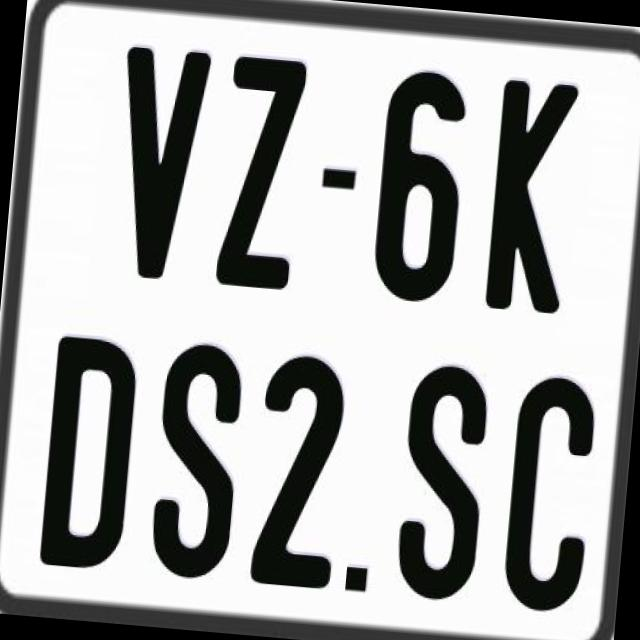2: (247, 348, 356, 594)
6: (371, 63, 474, 303)
C: (498, 374, 597, 616)
D: (35, 336, 143, 572)
K: (484, 78, 582, 314)
S: (145, 337, 251, 579), (389, 360, 492, 606)
V: (108, 46, 216, 282)
Z: (214, 55, 306, 299)
